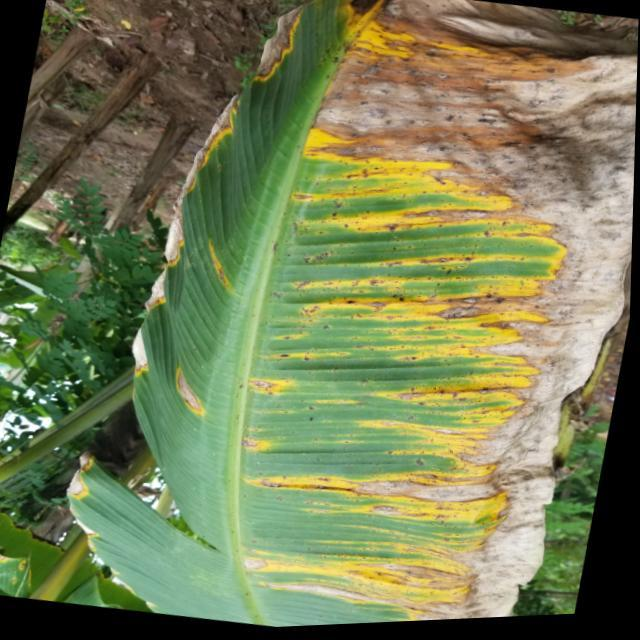Early_rust: (56, 0, 629, 640)
